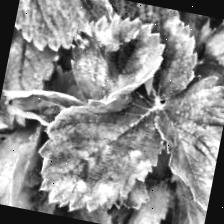Powdery Mildew Leaf: (29, 74, 173, 224), (81, 0, 206, 110), (138, 66, 224, 214), (62, 5, 170, 113), (0, 80, 88, 133)
